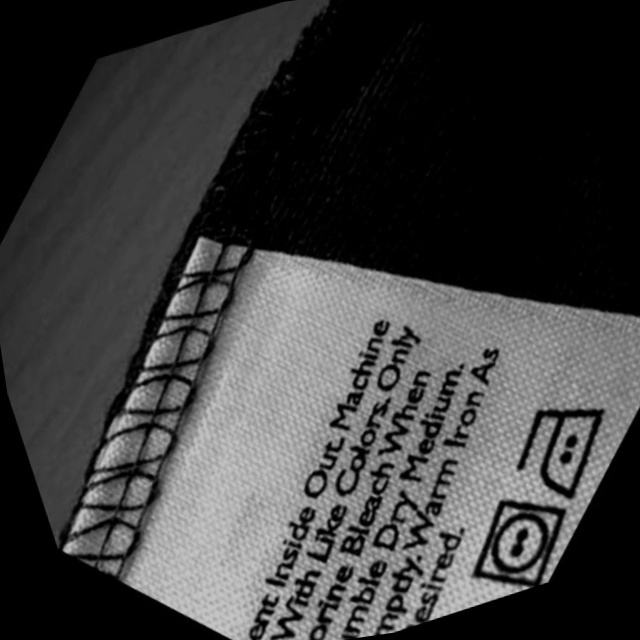iron_medium: (500, 385, 635, 511)
tumble_dry_medium: (453, 481, 590, 604)
